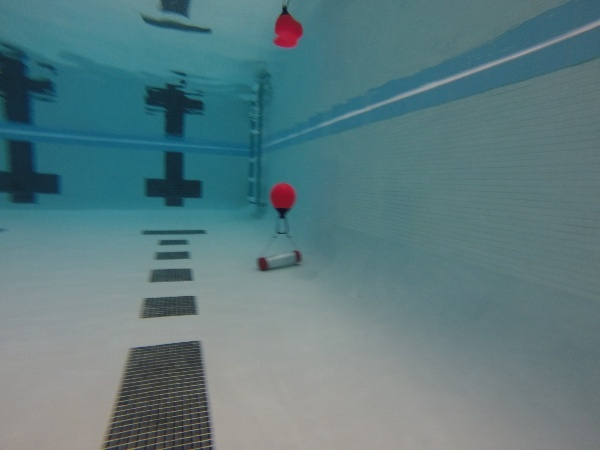buoy_red: (264, 181, 298, 220)
